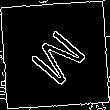M_SE: (20, 21, 90, 89)
